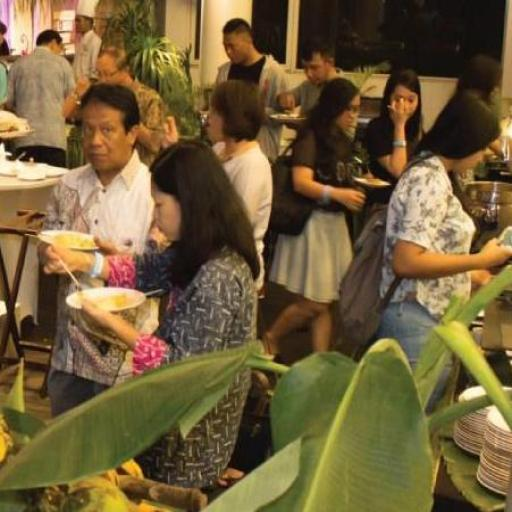person: (83, 143, 258, 373), (379, 94, 511, 366), (264, 78, 365, 353), (45, 85, 153, 253), (207, 80, 272, 290), (6, 30, 74, 167), (96, 47, 164, 165), (366, 70, 422, 204), (216, 18, 287, 114), (279, 39, 339, 114), (456, 54, 502, 107), (73, 0, 102, 79), (0, 22, 10, 56)
